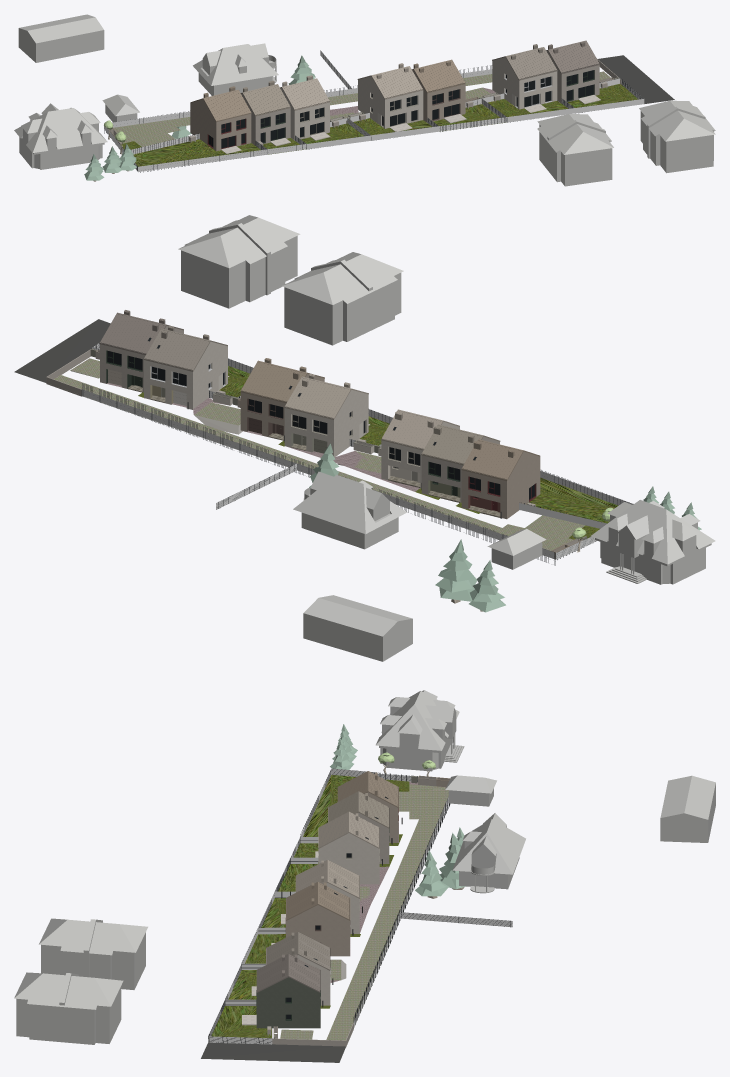
Rendered from bor2-zewnetrze-v10.glb.
3 views of the same model, one above another, from view 1: azimuth 30°, elevation 25°; view 2: azimuth 150°, elevation 25°; view 3: azimuth 270°, elevation 25° (orthographic). The views are drawn at different scales.
Visible parts, largest first — view 1: ZIEMIA, OGRODZENIE_KOLIZJA, KONTEKST_8, KONTEKST_4, KONTEKST_2, DOM_D, DOM_B, KONTEKST_6, KONTEKST_5, DOM_G, DOM_C, DOM_A (+9 smaller); view 2: ZIEMIA, KONTEKST_8, KONTEKST_3, KONTEKST_1, KONTEKST_6, OGRODZENIE_KOLIZJA, DOM_B, DOM_D, KONTEKST_5, DOM_G, ZIELEN, DOM_C (+8 smaller); view 3: ZIEMIA, KONTEKST_8, DOM_A, OGRODZENIE_KOLIZJA, KONTEKST_6, KONTEKST_3, DOM_C, KONTEKST_1, DOM_E, KONTEKST_5, KONTEKST_4, ZIELEN (+9 smaller).
Part boxes in pixels (box(x1,y1,x2,y2)): ZIEMIA: box(113, 55, 674, 166); OGRODZENIE_KOLIZJA: box(104, 50, 644, 171); KONTEKST_8: box(14, 103, 107, 169); KONTEKST_4: box(648, 107, 715, 173); KONTEKST_2: box(547, 121, 613, 186); DOM_D: box(357, 63, 423, 128); DOM_B: box(492, 44, 557, 109); KONTEKST_6: box(193, 43, 278, 95); KONTEKST_5: box(18, 14, 104, 62); DOM_G: box(190, 86, 251, 150); DOM_C: box(412, 59, 465, 122); DOM_A: box(546, 40, 599, 103); ZIEMIA: box(14, 319, 618, 550); KONTEKST_8: box(590, 500, 715, 584); KONTEKST_3: box(178, 224, 268, 308); KONTEKST_1: box(282, 260, 371, 345); KONTEKST_6: box(293, 471, 407, 549); OGRODZENIE_KOLIZJA: box(82, 343, 633, 559); DOM_B: box(143, 325, 227, 409); DOM_D: box(284, 374, 368, 457); KONTEKST_5: box(303, 595, 412, 661); DOM_G: box(461, 439, 540, 519); ZIELEN: box(309, 443, 701, 612); DOM_C: box(240, 358, 324, 440); ZIEMIA: box(201, 775, 448, 1062); KONTEKST_8: box(375, 690, 464, 771); DOM_A: box(256, 954, 320, 1028); OGRODZENIE_KOLIZJA: box(208, 768, 512, 1044); KONTEKST_6: box(452, 813, 525, 893); KONTEKST_3: box(61, 973, 123, 1044); DOM_C: box(285, 882, 350, 956); KONTEKST_1: box(86, 919, 147, 989); DOM_E: box(318, 811, 379, 884); KONTEKST_5: box(660, 775, 715, 842); KONTEKST_4: box(14, 972, 68, 1042); ZIELEN: box(330, 724, 465, 898).
Size of the model in its own units: 121 by 19.43 by 110.
Materials: 92 (17 with a texture image).
